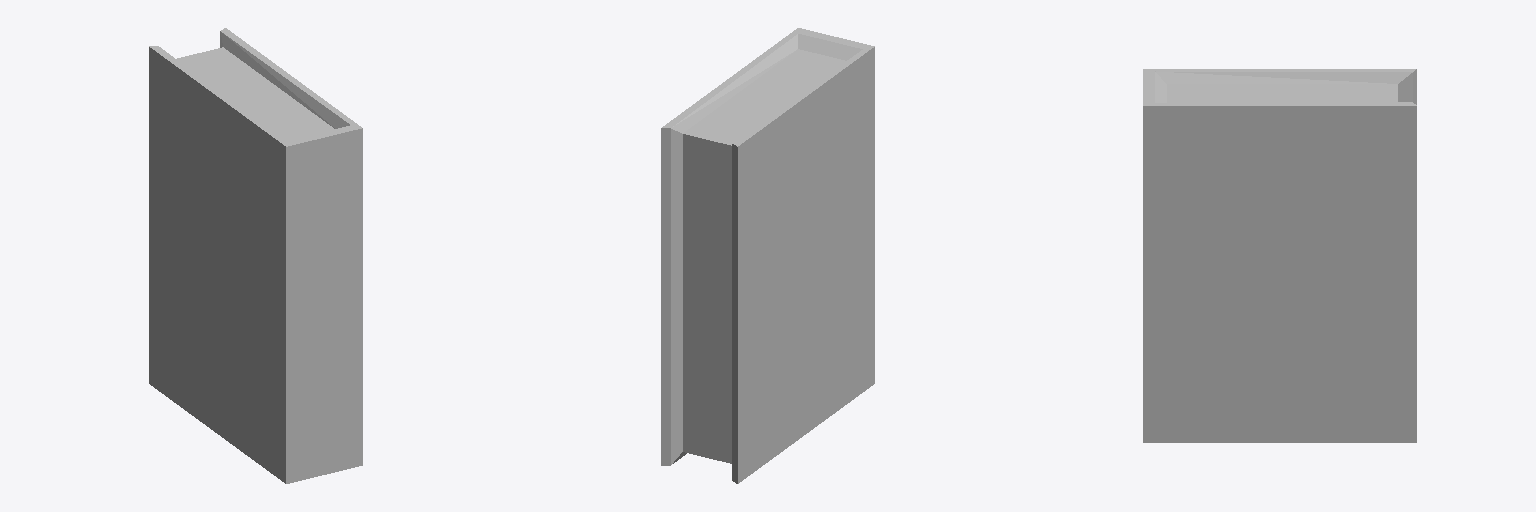
Rendered from misc024.obj.
3 renders of one model, left to right at view 1: azimuth 30°, elevation 25°; view 2: azimuth 150°, elevation 25°; view 3: azimuth 270°, elevation 25°, orthographic.
Parts seen in each view (by area): view 1: misc024; view 2: misc024; view 3: misc024.
Boxes of the visible parts, <box> form: misc024: <box>149,28,362,483</box>; misc024: <box>661,28,874,483</box>; misc024: <box>1143,69,1416,442</box>.
Size of the model in its own units: 0.0018 by 0.0076 by 0.0056.